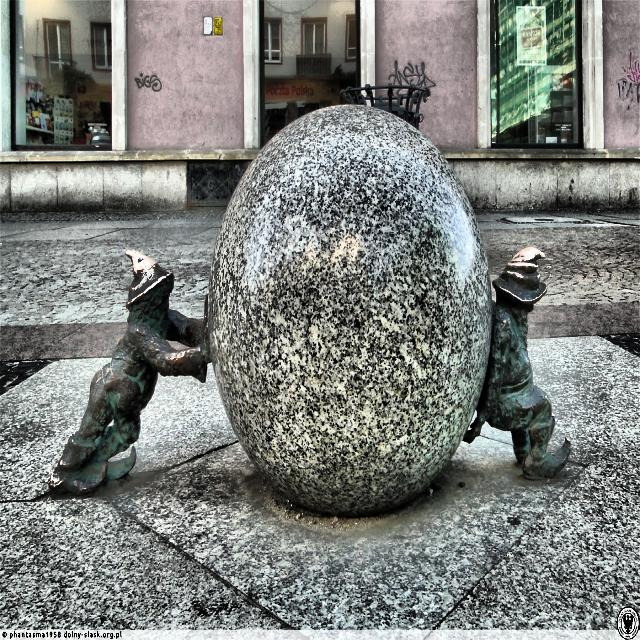Syzyfki: (37, 95, 580, 521)
